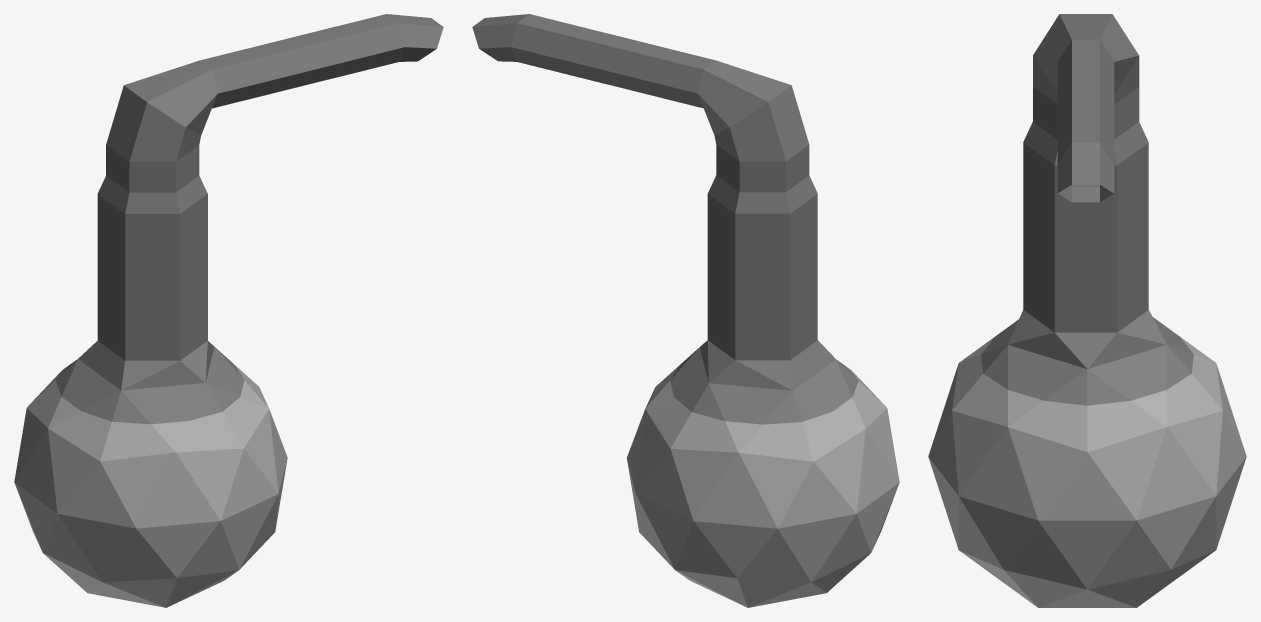
Rendered from alchemist_aparatus_749x06.gltf.
3 views of the same model, side by side, from view 1: azimuth 30°, elevation 25°; view 2: azimuth 150°, elevation 25°; view 3: azimuth 270°, elevation 25° (orthographic). The views are drawn at different scales.
Visible parts, largest first — view 1: alchemist_aparatus_749x06; view 2: alchemist_aparatus_749x06; view 3: alchemist_aparatus_749x06.
Part boxes in pixels (left/top/right/bottom): alchemist_aparatus_749x06: left=14, top=14, right=443, bottom=607; alchemist_aparatus_749x06: left=472, top=14, right=899, bottom=607; alchemist_aparatus_749x06: left=928, top=14, right=1246, bottom=607.
Bounding box in the file's own units: 0.8656 × 1.07 × 0.5225.
Materials: 2 (2 with a texture image).
